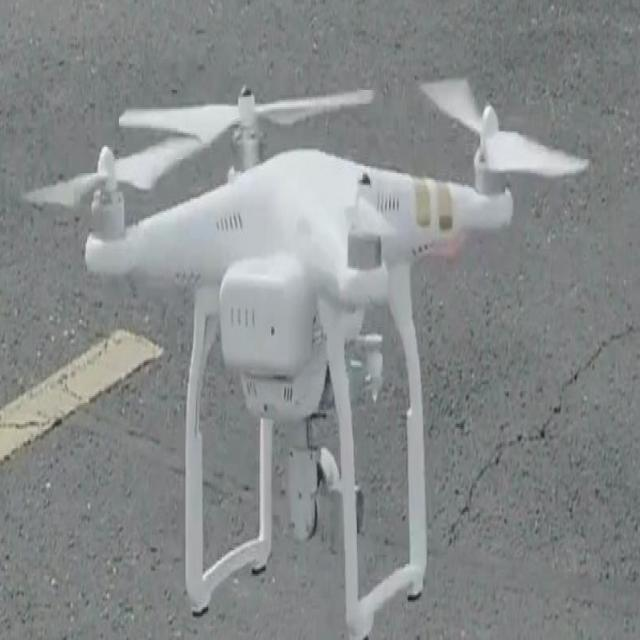drone: (14, 43, 607, 640)
